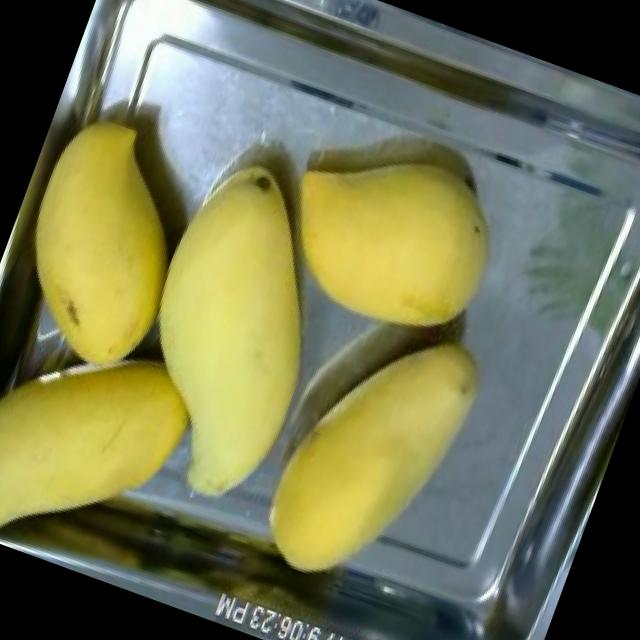fruit: (78, 132, 387, 528), (240, 292, 504, 618), (248, 107, 530, 368), (0, 292, 230, 599), (0, 89, 217, 402)
